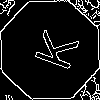K: (25, 25, 80, 73)
